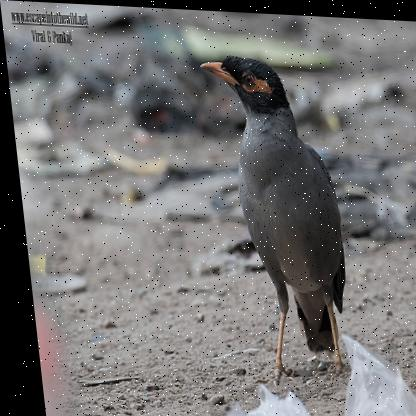Burung: (195, 50, 352, 384)
